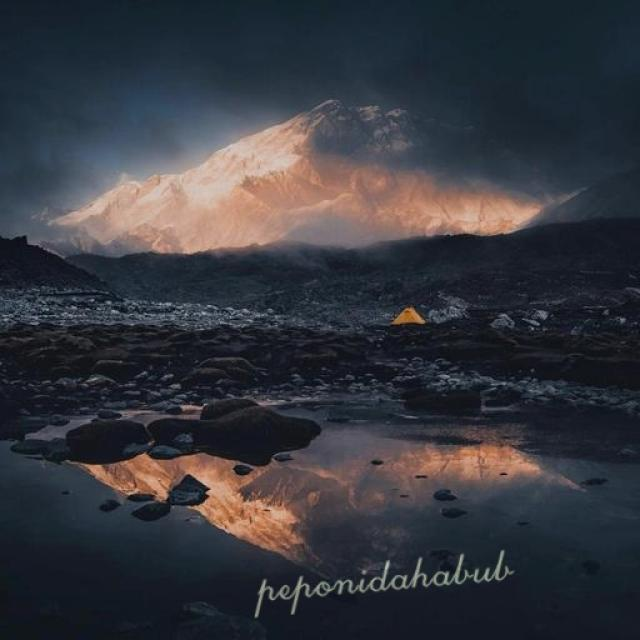watermark: (248, 546, 513, 608)
